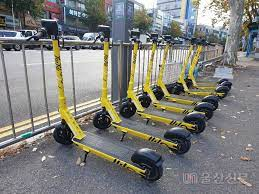kick_board: (29, 19, 162, 179)
kick_body: (76, 136, 133, 168), (120, 120, 162, 144), (143, 110, 182, 125)
kick_handler: (28, 19, 60, 42), (127, 29, 141, 45), (181, 35, 203, 45), (98, 24, 109, 43), (146, 32, 161, 43), (161, 33, 175, 44)
kick_neck: (50, 45, 70, 118), (100, 45, 113, 108), (130, 46, 138, 94), (147, 46, 156, 85)
kick_wheel: (135, 150, 161, 179), (166, 126, 191, 154), (186, 111, 205, 133), (93, 110, 112, 130), (54, 124, 72, 145), (119, 102, 136, 118), (139, 95, 150, 108), (156, 90, 164, 101)
